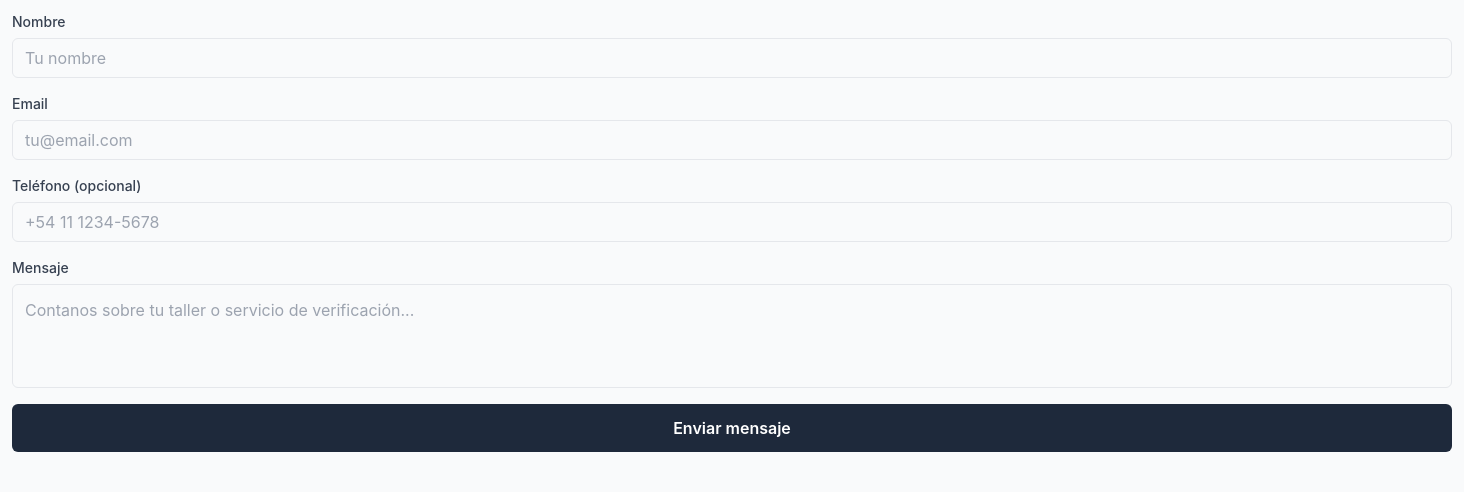
Test: ContactForm › shows validation error for empty name on submit
Type "test@test.com" into the field labelled "Email" at [732, 140], box [12, 120, 1452, 160]
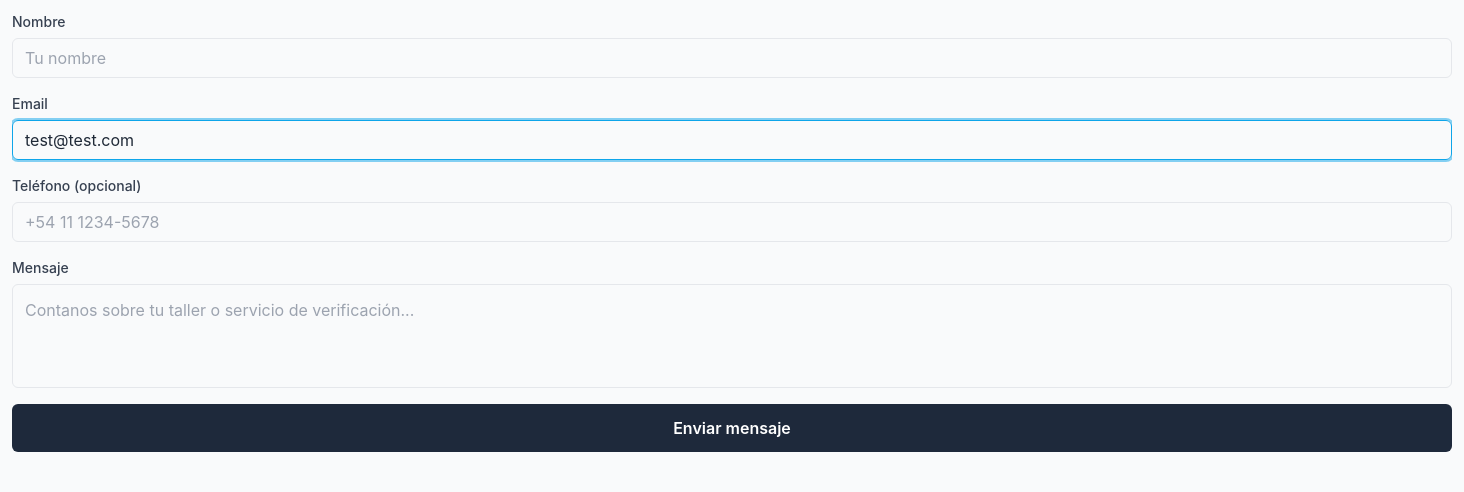
Type "Este es un mensaje de prueba con al menos diez caracteres." into the text box labelled "Mensaje" at [732, 336], box [12, 284, 1452, 388]
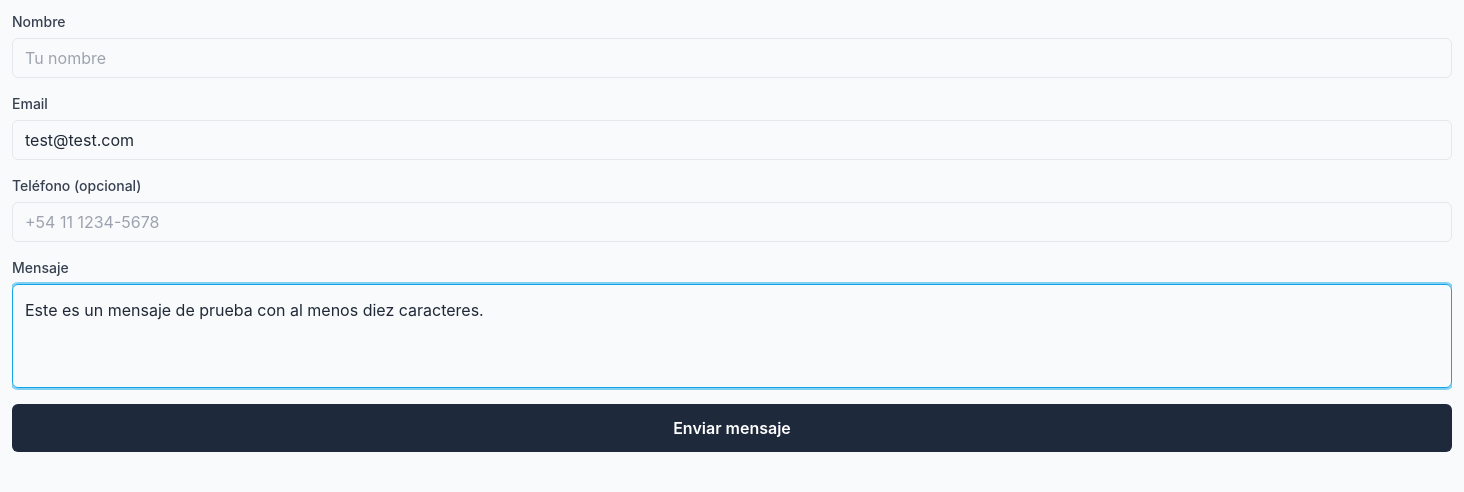
Click the button "Enviar mensaje" at [732, 428], box [12, 404, 1452, 452]
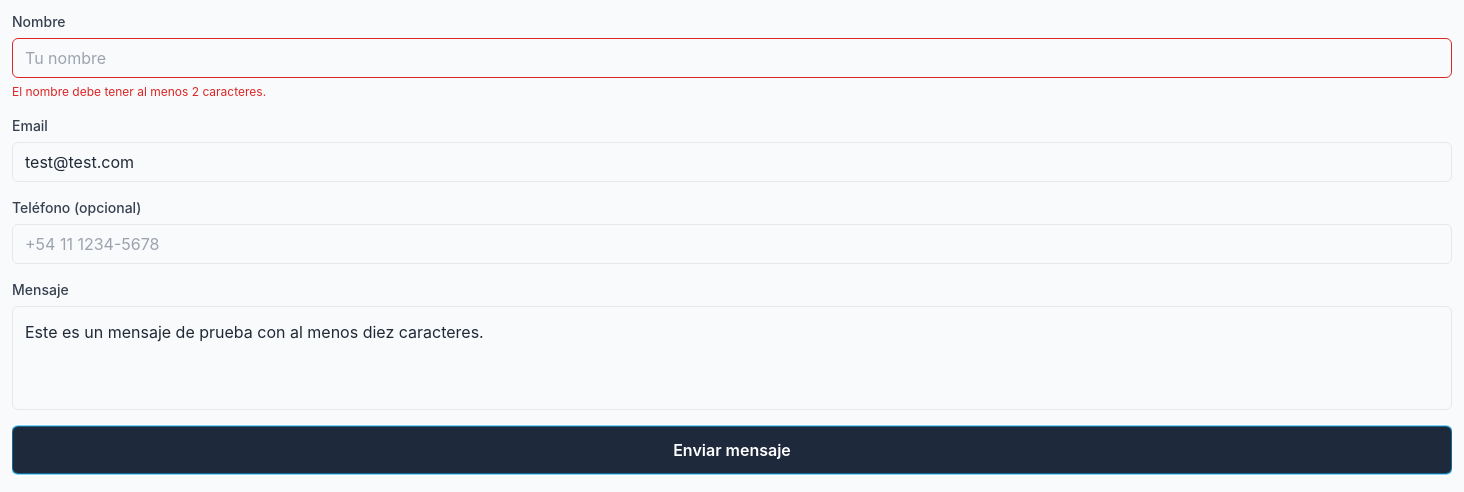
Expected: the text "El nombre debe tener al menos 2 caracteres." is shown, [12, 84, 266, 99]
